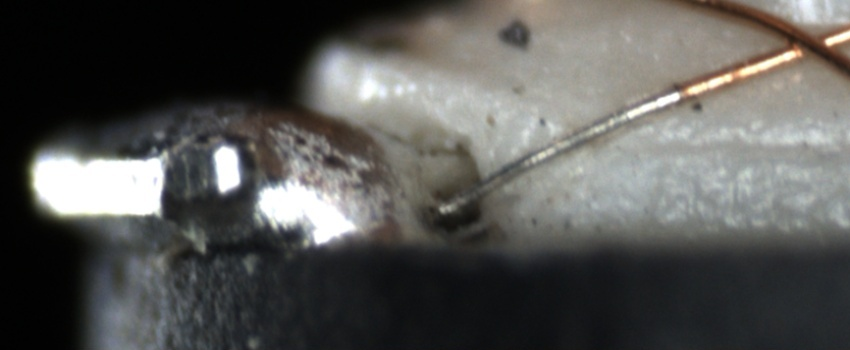CL: (761, 15, 845, 70)
DL: (619, 116, 850, 177)
TS: (432, 86, 683, 216)
